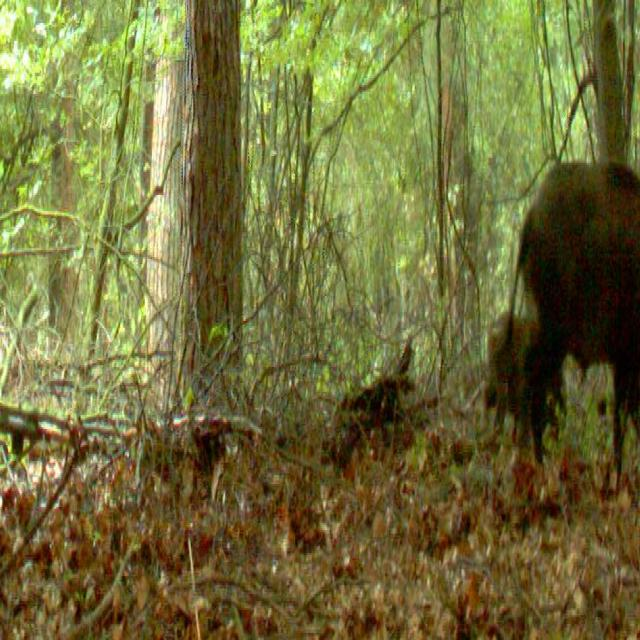pig: (508, 137, 640, 465)
